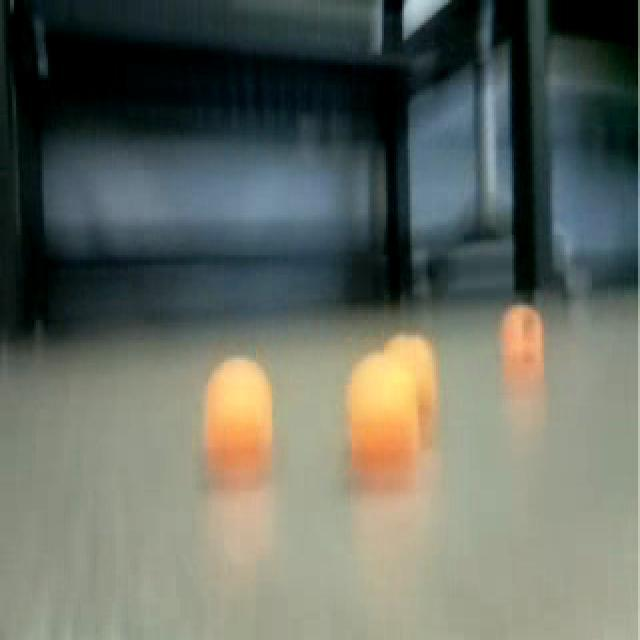ping-pong-ball: (339, 352, 423, 466), (196, 351, 276, 470), (494, 301, 550, 387)
